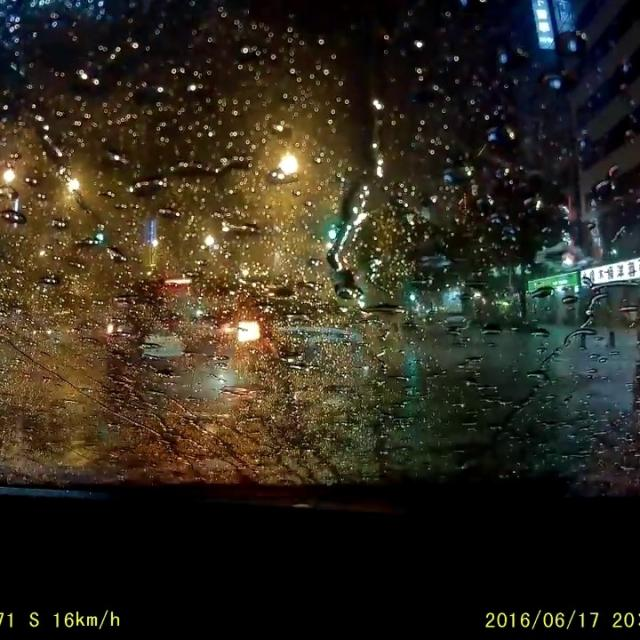Car: (104, 272, 423, 435)
